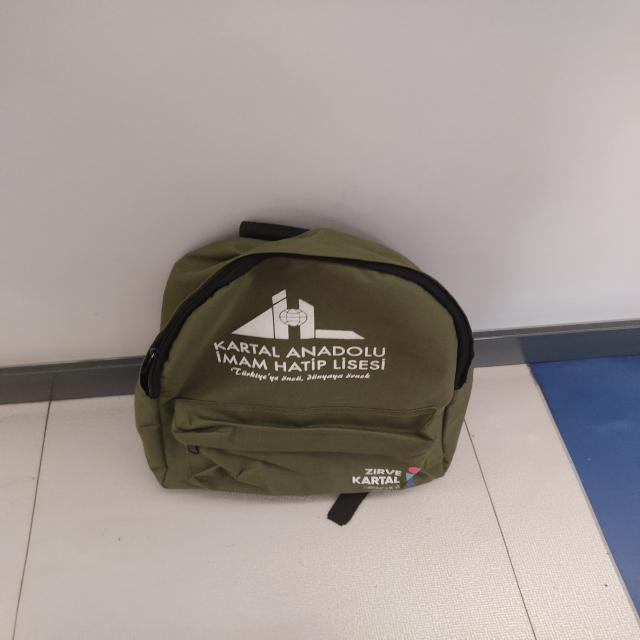bag: (131, 218, 493, 512)
